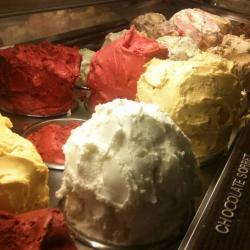icecream: (67, 102, 199, 242), (141, 55, 239, 165), (83, 35, 170, 116), (5, 40, 80, 123), (1, 113, 52, 227), (133, 9, 247, 58)
